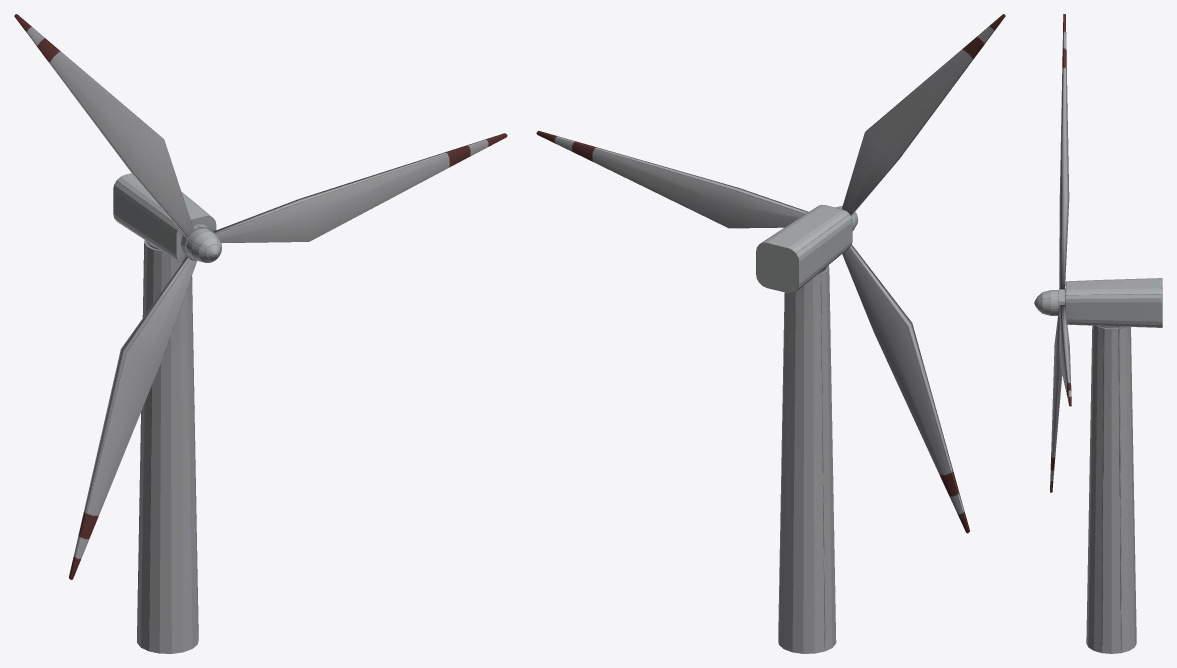
File: generater.glb
3 renders of one model, left to right at view 1: azimuth 30°, elevation 25°; view 2: azimuth 150°, elevation 25°; view 3: azimuth 270°, elevation 25°, orthographic. The views are drawn at different scales.
Visible parts, largest first — view 1: Cylinder.003, Cube.002, Circle; view 2: Cube.002, Cylinder.003; view 3: Cube.002, Cylinder.003, Circle.
Boxes of the visible parts, x1=… form: Cylinder.003: x1=14, y1=14, x2=507, y2=579; Cube.002: x1=113, y1=173, x2=216, y2=653; Circle: x1=186, y1=228, x2=221, y2=262; Cube.002: x1=756, y1=204, x2=852, y2=653; Cylinder.003: x1=536, y1=14, x2=1005, y2=533; Cube.002: x1=1065, y1=278, x2=1162, y2=653; Cylinder.003: x1=1050, y1=14, x2=1071, y2=492; Circle: x1=1034, y1=290, x2=1058, y2=315.
Bounding box in the file's own units: 2.17 × 2.89 × 0.6027.
3 materials, 3 textured.
